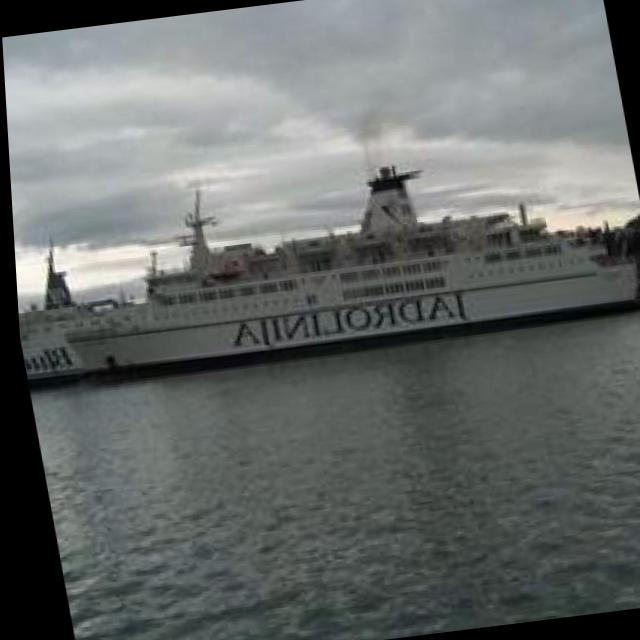ship2: (14, 166, 640, 393)
